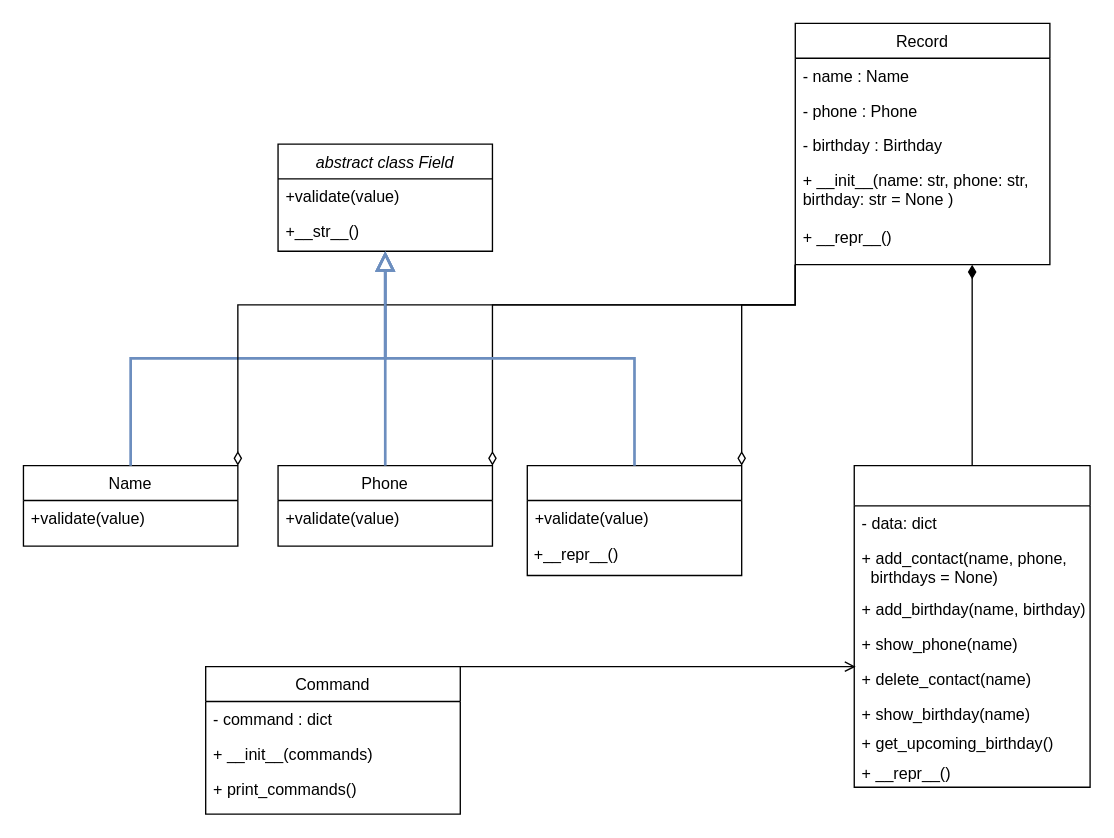
Image size: 1114x838. Some labels were removed from this diagram. The box of each missing label's shape, as (x1, y1, x2, y2) in pixels:
AddressBook: (853, 464, 1090, 787)
Birthday: (526, 464, 742, 576)
